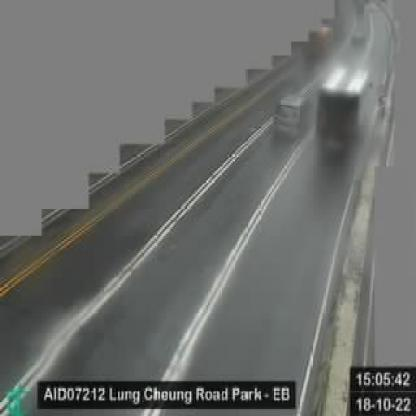Car: (271, 92, 311, 144)
Truck: (314, 68, 372, 159)
